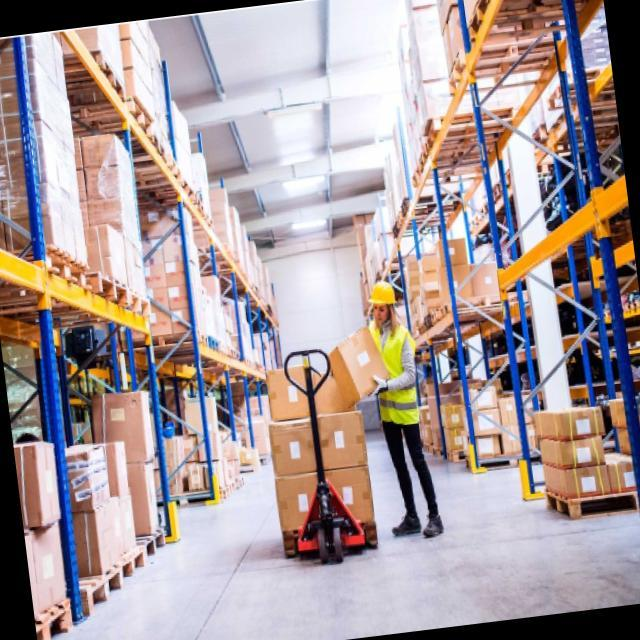hard_hat: (366, 277, 401, 330)
shoes: (385, 502, 448, 545)
vest: (359, 317, 429, 434)
